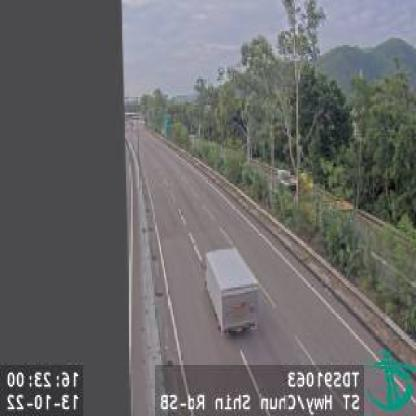Truck: (204, 247, 262, 335)
